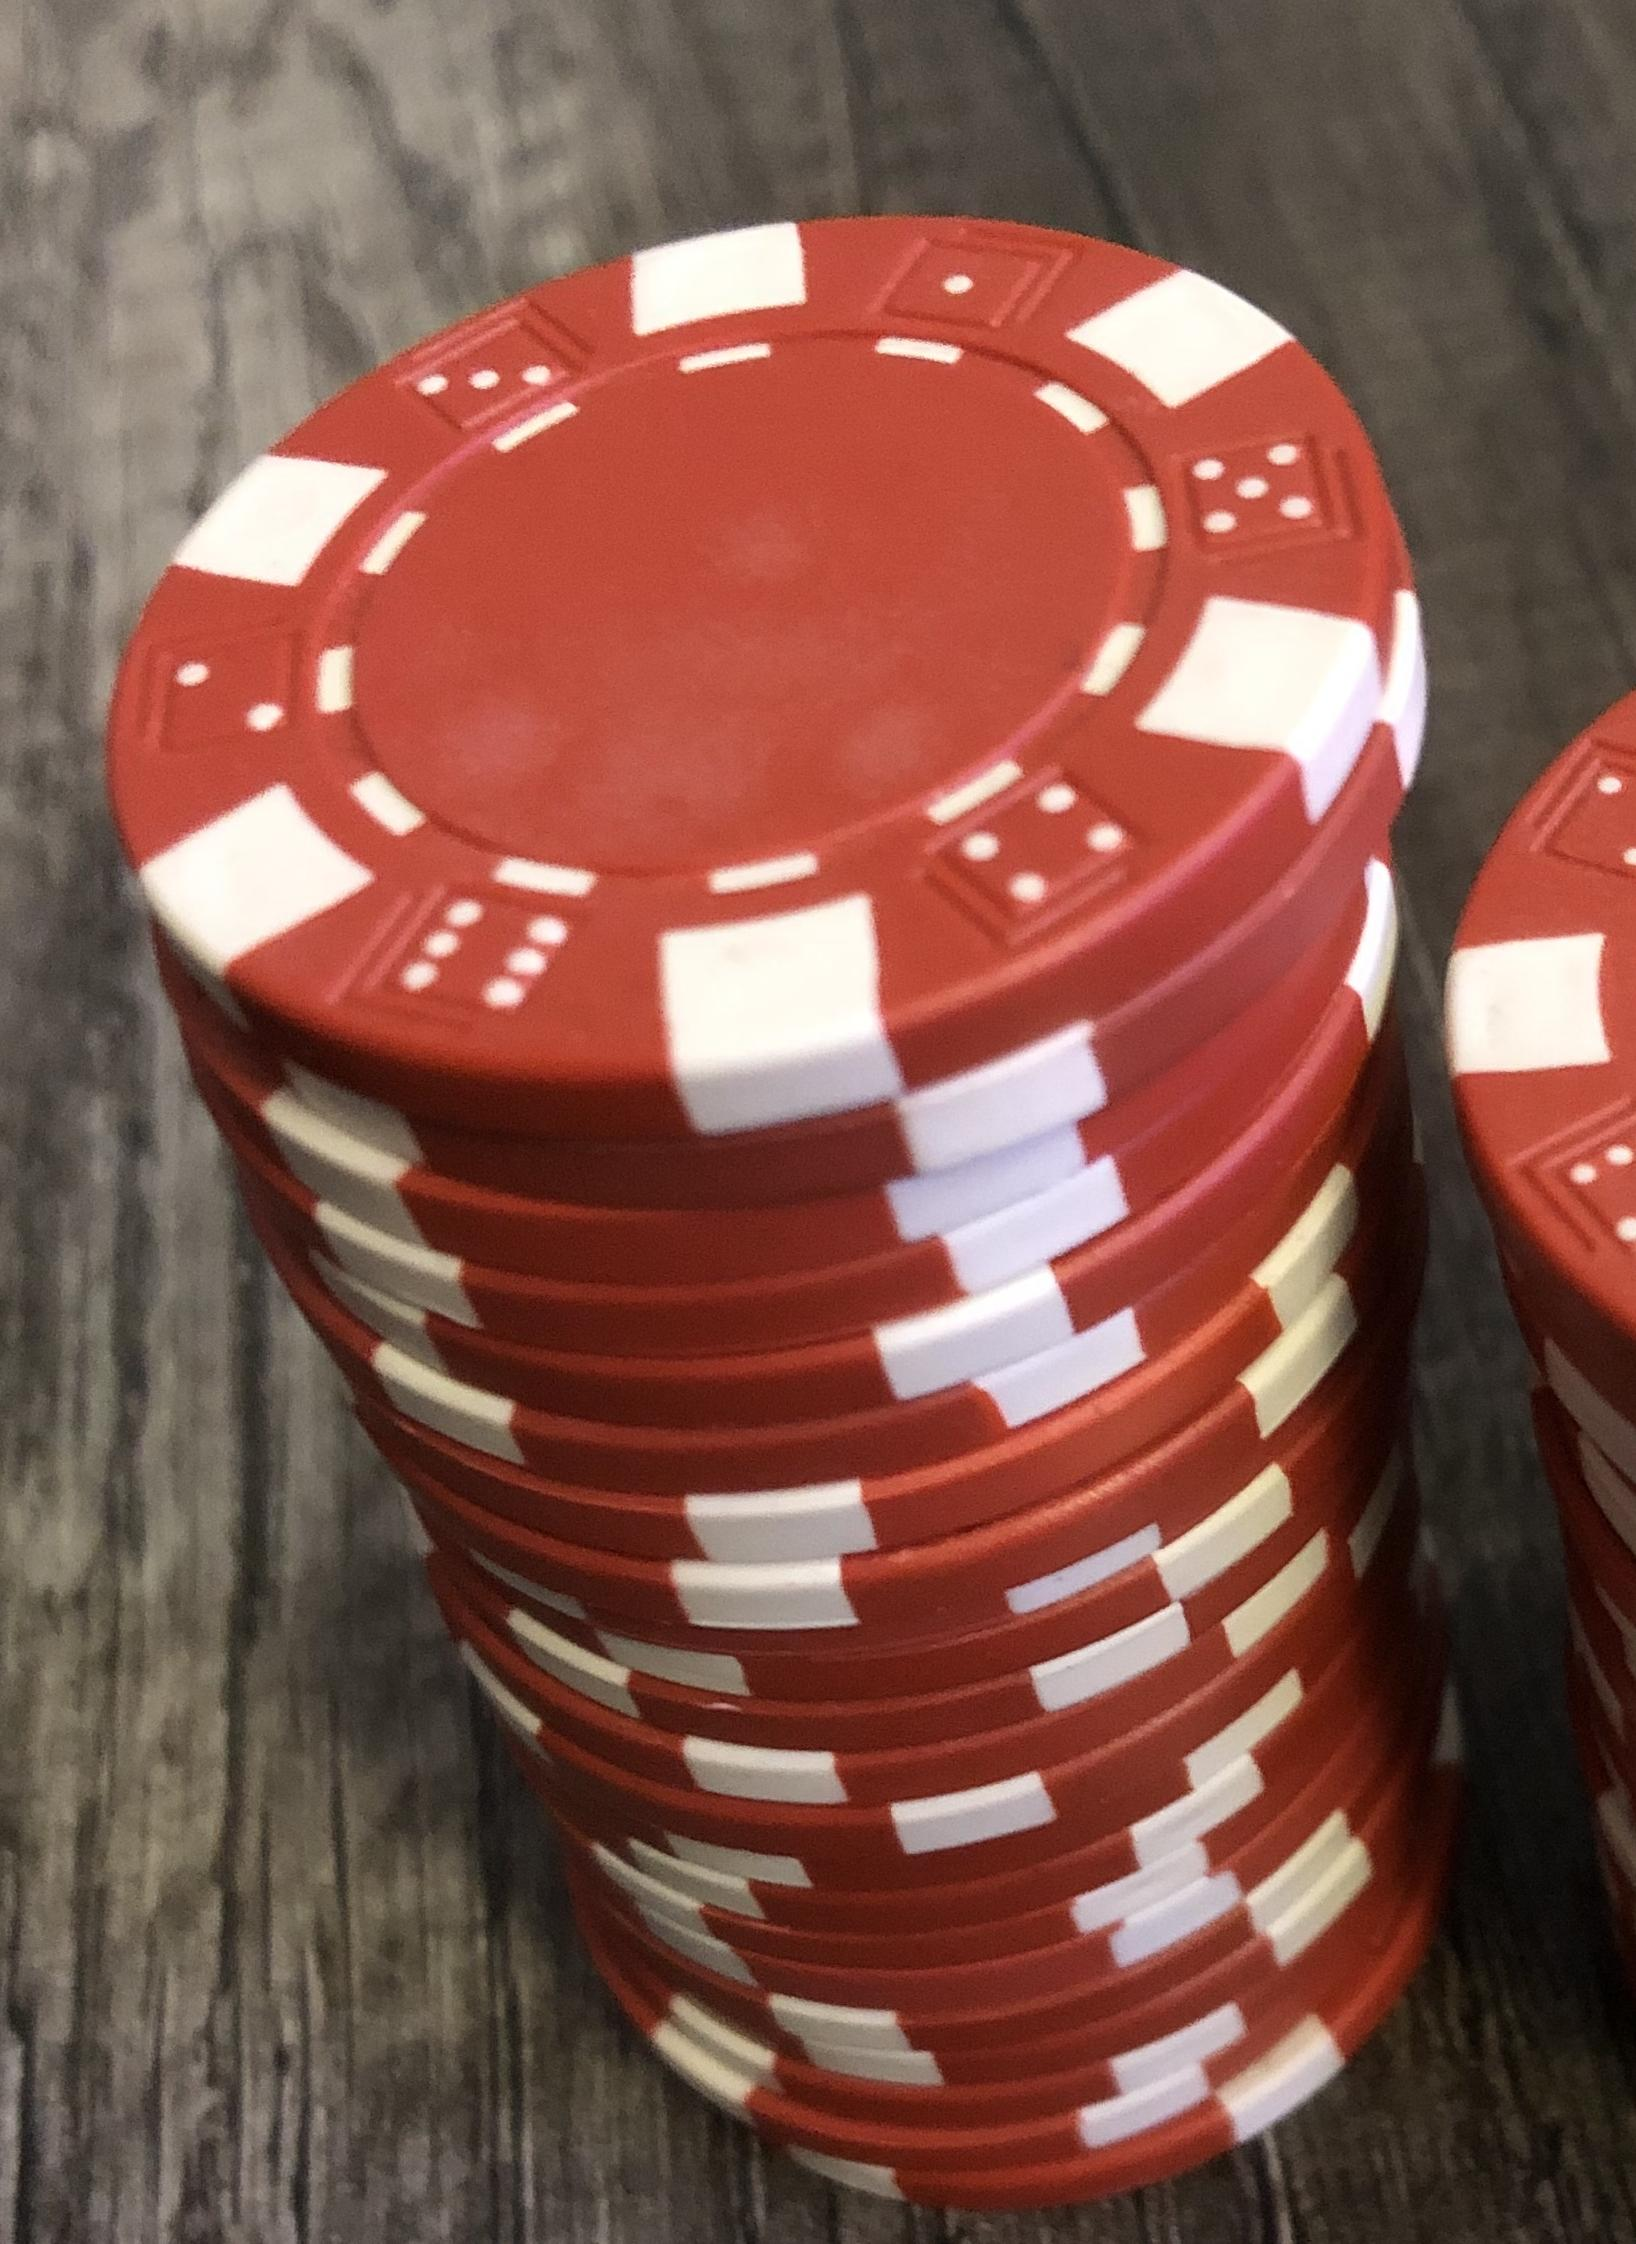Chip: (2, 2, 1636, 2244)
